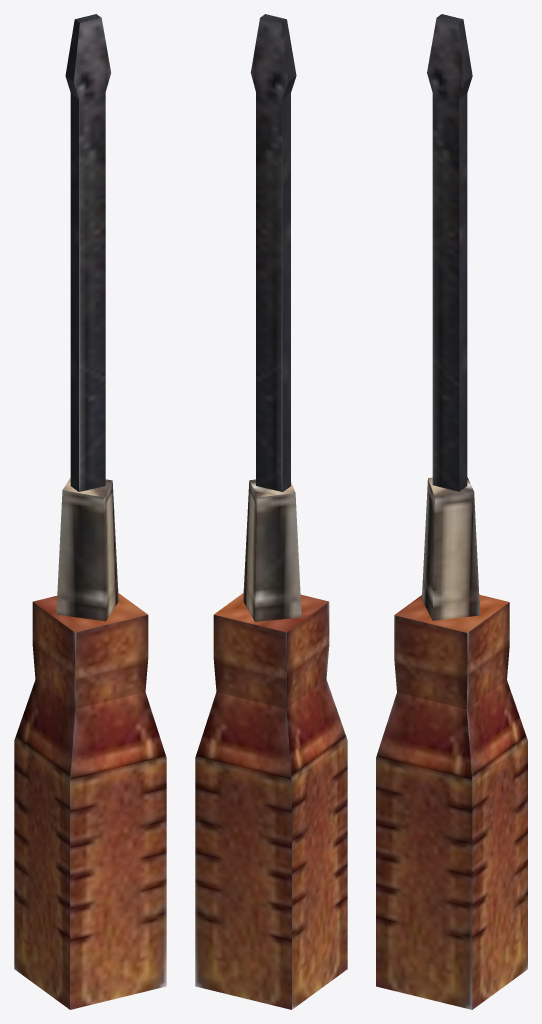
Rendered from ScrewDriverWood.obj.
3 views of the same model, side by side, from view 1: azimuth 30°, elevation 25°; view 2: azimuth 150°, elevation 25°; view 3: azimuth 330°, elevation 25° (orthographic).
Visible parts, largest first — view 1: ScrewDriver; view 2: ScrewDriver; view 3: ScrewDriver.
Boxes of the visible parts, x1,y1,x2,y2 form: ScrewDriver: (14, 14, 166, 1009); ScrewDriver: (195, 14, 347, 1009); ScrewDriver: (376, 14, 527, 1009).
Size of the model in its own units: 0.2573 by 2.45 by 0.2573.
Materials: 1 (1 with a texture image).
